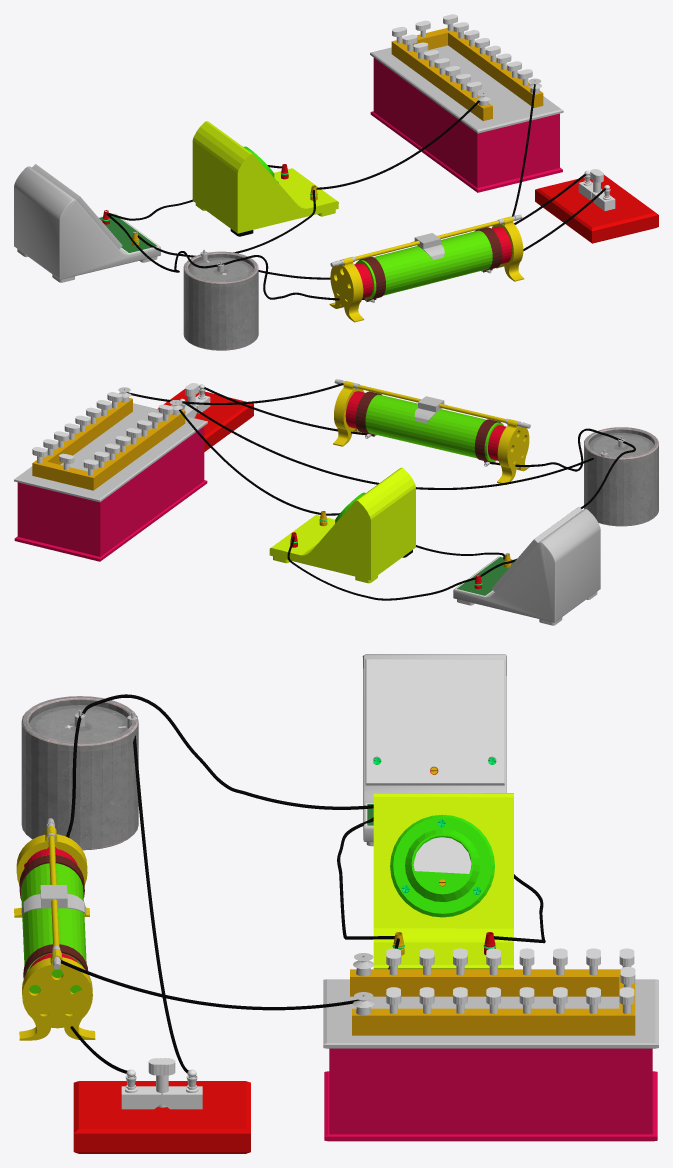
File: Exp 8ConvertGalvanometer.fbx
3 renders of one model, top to bottom at view 1: azimuth 30°, elevation 25°; view 2: azimuth 150°, elevation 25°; view 3: azimuth 270°, elevation 25°, orthographic. The views are drawn at different scales.
Parts seen in each view (by area): view 1: Cube.001, Body, body.001, Cylinder.048, body, Cube, Cube.005, side left, side right, steal up, center up, Catenary.005; view 2: Cube.001, Body, body.001, Cylinder.048, body, Cube.005, Cube, side left, Catenary.002, side right, steal up, Catenary.006 (+7 smaller); view 3: Cube.001, screen, Cylinder.048, body.001, Cube.005, Cube, Cylinder.045, side right, body, Body, side left, Catenary.002 (+6 smaller).
Part boxes in pixels (x1=…): Cube.001: x1=370, y1=45, x2=563, y2=192; Body: x1=14, y1=164, x2=160, y2=279; body.001: x1=192, y1=121, x2=338, y2=233; Cylinder.048: x1=183, y1=251, x2=258, y2=350; body: x1=336, y1=226, x2=511, y2=299; Cube: x1=535, y1=175, x2=658, y2=243; Cube.005: x1=391, y1=27, x2=543, y2=120; side left: x1=329, y1=257, x2=364, y2=322; side right: x1=492, y1=216, x2=524, y2=281; steal up: x1=354, y1=220, x2=499, y2=260; center up: x1=411, y1=233, x2=444, y2=259; Catenary.005: x1=316, y1=100, x2=479, y2=189; Cube.001: x1=14, y1=403, x2=207, y2=561; Body: x1=453, y1=506, x2=600, y2=622; body.001: x1=269, y1=467, x2=415, y2=580; Cylinder.048: x1=584, y1=427, x2=658, y2=526; body: x1=345, y1=391, x2=524, y2=461; Cube.005: x1=32, y1=398, x2=185, y2=490; Cube: x1=157, y1=389, x2=253, y2=451; side left: x1=497, y1=419, x2=529, y2=484; Catenary.002: x1=185, y1=403, x2=593, y2=489; side right: x1=333, y1=381, x2=363, y2=446; steal up: x1=357, y1=384, x2=506, y2=422; Catenary.006: x1=287, y1=536, x2=475, y2=600; Cube.001: x1=323, y1=979, x2=658, y2=1141; screen: x1=366, y1=659, x2=503, y2=782; Cylinder.048: x1=21, y1=696, x2=138, y2=850; body.001: x1=373, y1=793, x2=513, y2=969; Cube.005: x1=350, y1=969, x2=635, y2=1035; Cube: x1=73, y1=1081, x2=250, y2=1153; Cylinder.045: x1=390, y1=814, x2=494, y2=917; side right: x1=19, y1=949, x2=95, y2=1040; body: x1=21, y1=847, x2=86, y2=1014; Body: x1=362, y1=654, x2=506, y2=841; side left: x1=14, y1=826, x2=89, y2=917; Catenary.002: x1=133, y1=735, x2=188, y2=1072.
Bounding box in the file's own units: 3259 × 601 × 2308.
